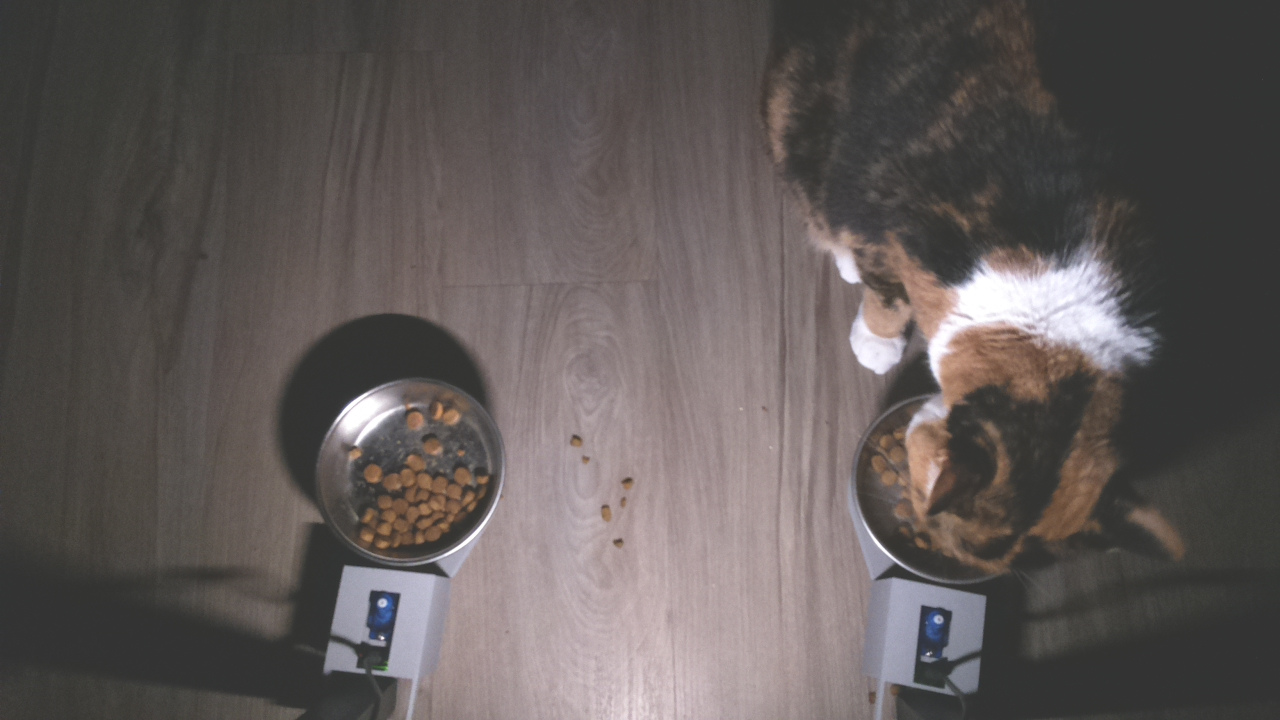bella_eating: (847, 323, 1195, 591)
open_bowl: (311, 371, 513, 571)
